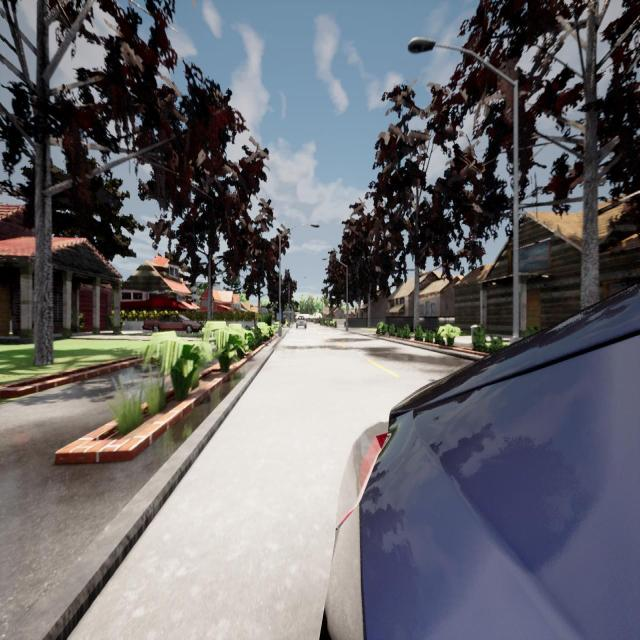Vehicle: (321, 292, 640, 640), (142, 314, 202, 334), (296, 316, 308, 329)
